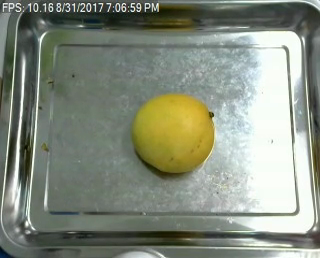Mango: (132, 96, 215, 170)
